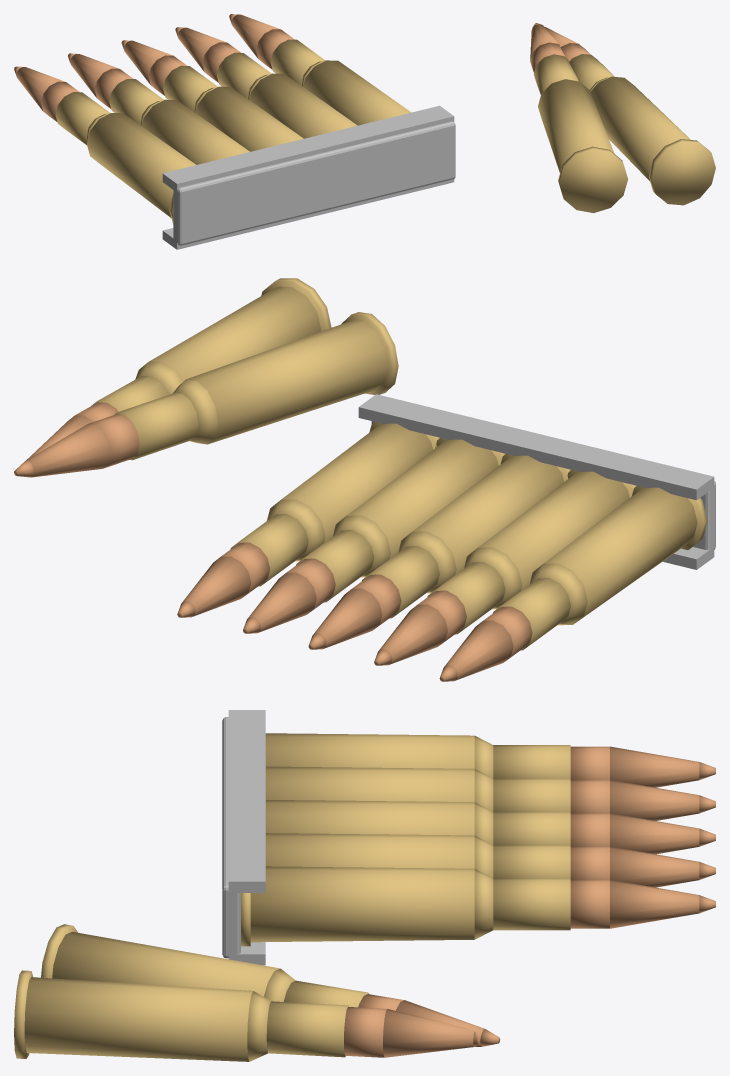
The model's file is Item_ammo_sniper.fbx.
The picture shows the model from 3 angles, top to bottom: view 1: azimuth 30°, elevation 25°; view 2: azimuth 150°, elevation 25°; view 3: azimuth 270°, elevation 25°; orthographic projection. The views are drawn at different scales.
Visible parts, largest first — view 1: model.004; view 2: model.004; view 3: model.004.
Boxes of the visible parts, left/top/right/bottom form: model.004: left=14, top=14, right=715, bottom=249; model.004: left=14, top=278, right=715, bottom=681; model.004: left=14, top=710, right=715, bottom=1061.
Size of the model in its own units: 0.1122 by 0.015 by 0.1141.
